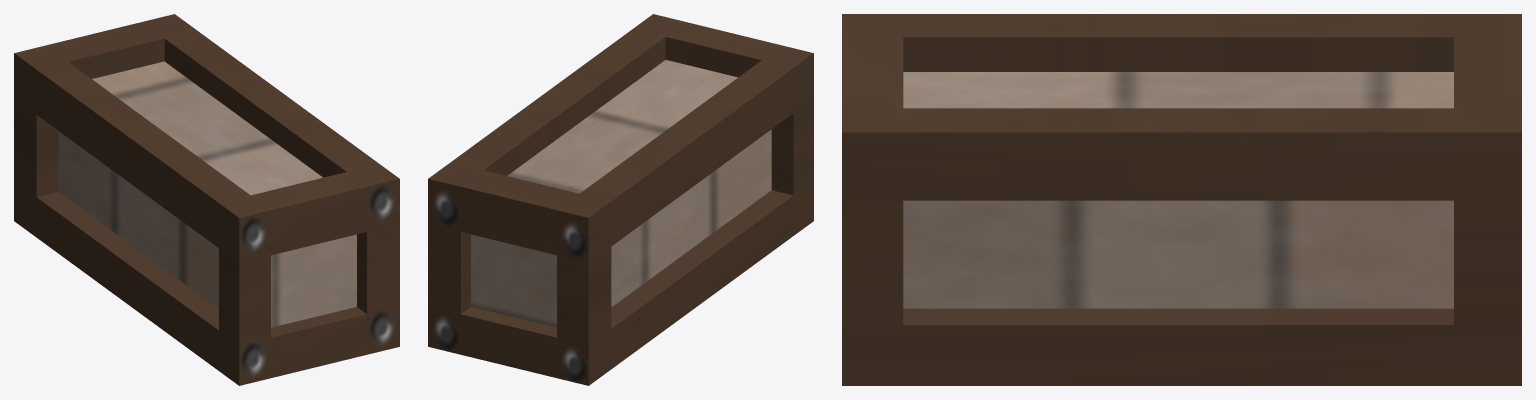
The model's file is SmolBox.fbx.
3 renders of one model, left to right at view 1: azimuth 30°, elevation 25°; view 2: azimuth 150°, elevation 25°; view 3: azimuth 270°, elevation 25°, orthographic. The views are drawn at different scales.
Parts seen in each view (by area): view 1: Box; view 2: Box; view 3: Box.
Part boxes in pixels (box(x1,y1,x2,y2)): Box: box(14, 14, 399, 385); Box: box(428, 14, 813, 385); Box: box(842, 14, 1521, 385).
Size of the model in its own units: 0.7 by 0.7 by 1.7.
